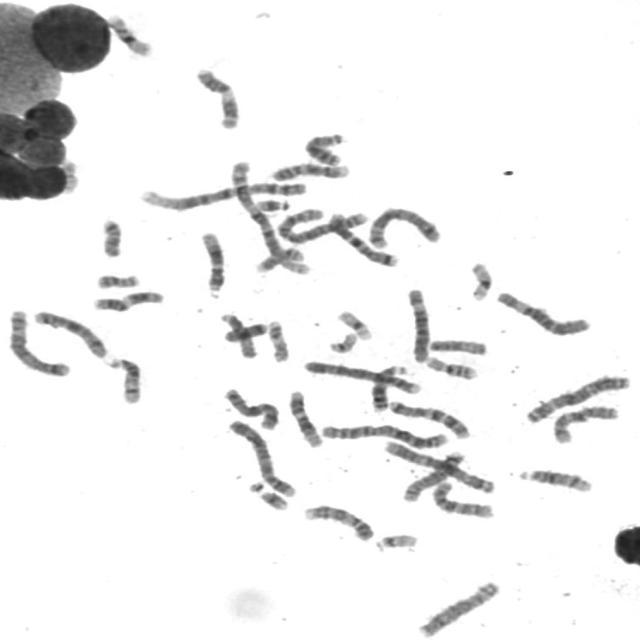A1: (226, 156, 311, 274), (134, 176, 309, 213)
A2: (315, 418, 453, 450), (272, 205, 371, 244)
A3: (378, 436, 498, 494), (520, 370, 633, 425)
B4: (223, 415, 298, 499), (299, 356, 423, 396)
B5: (3, 305, 73, 378), (364, 203, 444, 249)
C10: (548, 401, 622, 445), (427, 476, 496, 520)
C11: (190, 62, 242, 130), (87, 286, 166, 313)
C12: (284, 386, 326, 449), (196, 227, 228, 299)
C6: (492, 286, 594, 338), (402, 284, 433, 364)
C7: (324, 208, 401, 268), (384, 395, 473, 440)
C8: (413, 576, 503, 638), (398, 446, 468, 503)
C9: (299, 500, 376, 542), (265, 158, 352, 182)
D13: (366, 360, 411, 413), (300, 128, 347, 167)
D14: (514, 464, 595, 494), (100, 353, 144, 405)
D15: (214, 309, 258, 360), (424, 334, 490, 356)
E16: (101, 9, 156, 58), (420, 351, 480, 381)
E17: (251, 243, 305, 274), (263, 315, 292, 364)
E18: (96, 214, 126, 259), (218, 319, 270, 343)
F19: (332, 306, 374, 341), (464, 258, 496, 302)
F20: (91, 269, 143, 290), (57, 156, 83, 196)
G21: (252, 485, 291, 512), (250, 195, 292, 213)
G22: (370, 529, 420, 552), (324, 328, 361, 354)
X: (28, 306, 110, 359), (219, 384, 281, 431)
